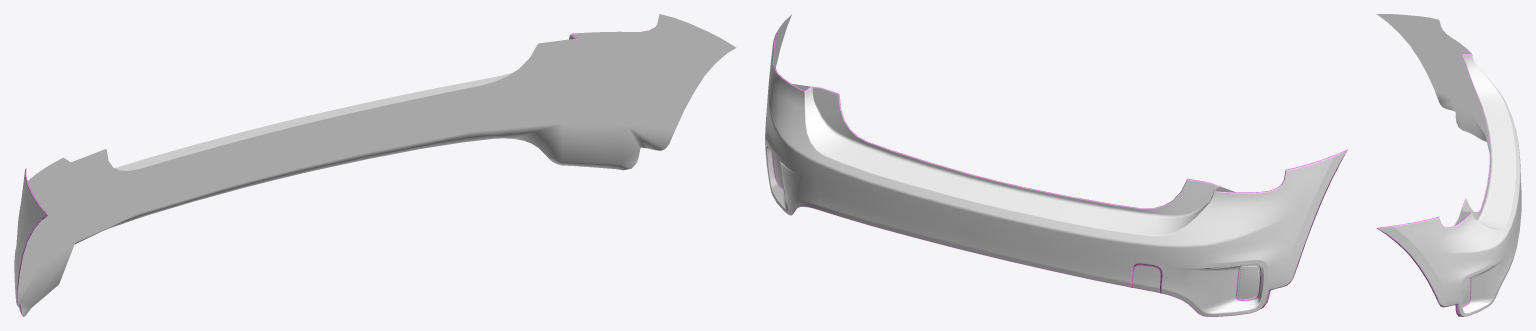
The model's file is Car_Mini_CountrymanJCW_2017_BumperR_SetA.fbx.
The picture shows the model from 3 angles, left to right: view 1: azimuth 30°, elevation 25°; view 2: azimuth 150°, elevation 25°; view 3: azimuth 270°, elevation 25°; orthographic projection. The views are drawn at different scales.
Parts seen in each view (by area): view 1: BumperR 6; view 2: BumperR 6; view 3: BumperR 6.
Boxes of the visible parts, <box> form: BumperR 6: <box>14,14,736,316</box>; BumperR 6: <box>765,14,1347,316</box>; BumperR 6: <box>1376,14,1521,316</box>.
Bounding box in the file's own units: 1.7 × 0.3948 × 0.4885.
